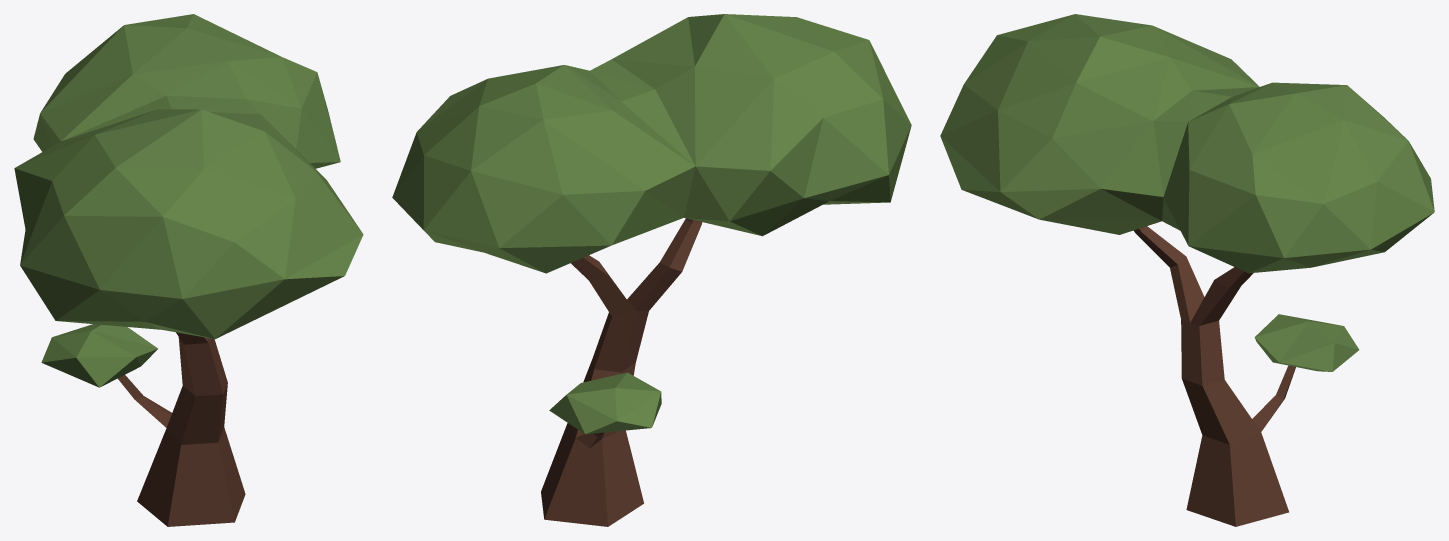
The model's file is PlantM-1.fbx.
3 views of the same model, side by side, from view 1: azimuth 30°, elevation 25°; view 2: azimuth 150°, elevation 25°; view 3: azimuth 270°, elevation 25° (orthographic). The views are drawn at different scales.
Visible parts, largest first — view 1: PlantM-1; view 2: PlantM-1; view 3: PlantM-1.
Part boxes in pixels (x1,y1,x2,y2): PlantM-1: (14, 14, 363, 526); PlantM-1: (392, 14, 911, 526); PlantM-1: (940, 14, 1434, 526).
Bounding box in the file's own units: 231 × 258 × 264.
